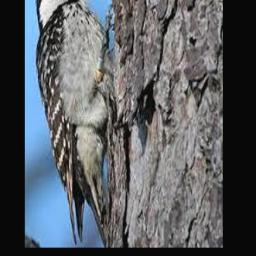Woodpecker: (35, 0, 135, 246)
